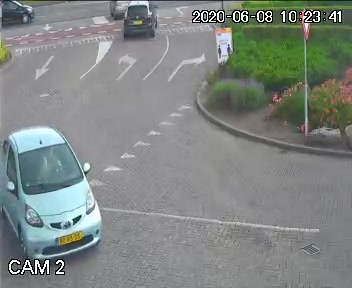car: (0, 124, 128, 277), (113, 0, 163, 42), (0, 0, 42, 30)
